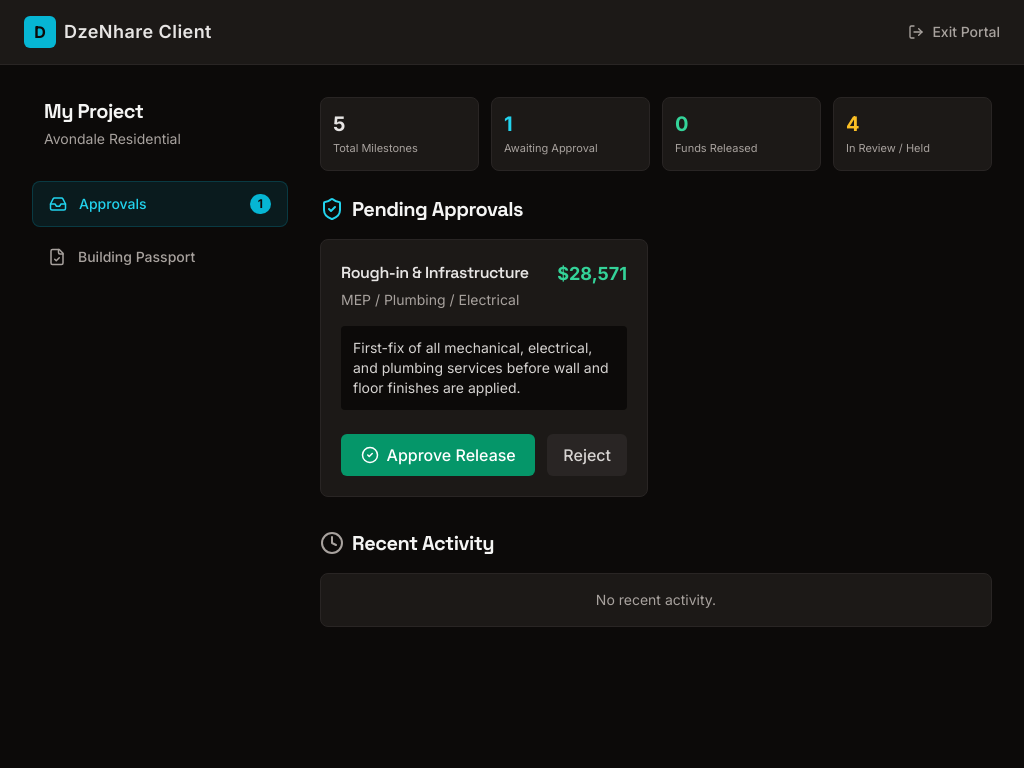
Test: ClientPortal — real milestone data › approves a pending milestone through the real milestone engine
This screenshot has width=1024, height=768.
Expected: the heading "Rough-in & Infrastructure" is shown, [341, 260, 529, 286]
What coordinates should you click on to do the following:
click the button "Approve Release"
I would click on:
 (438, 455)
Its box is [341, 434, 535, 476].
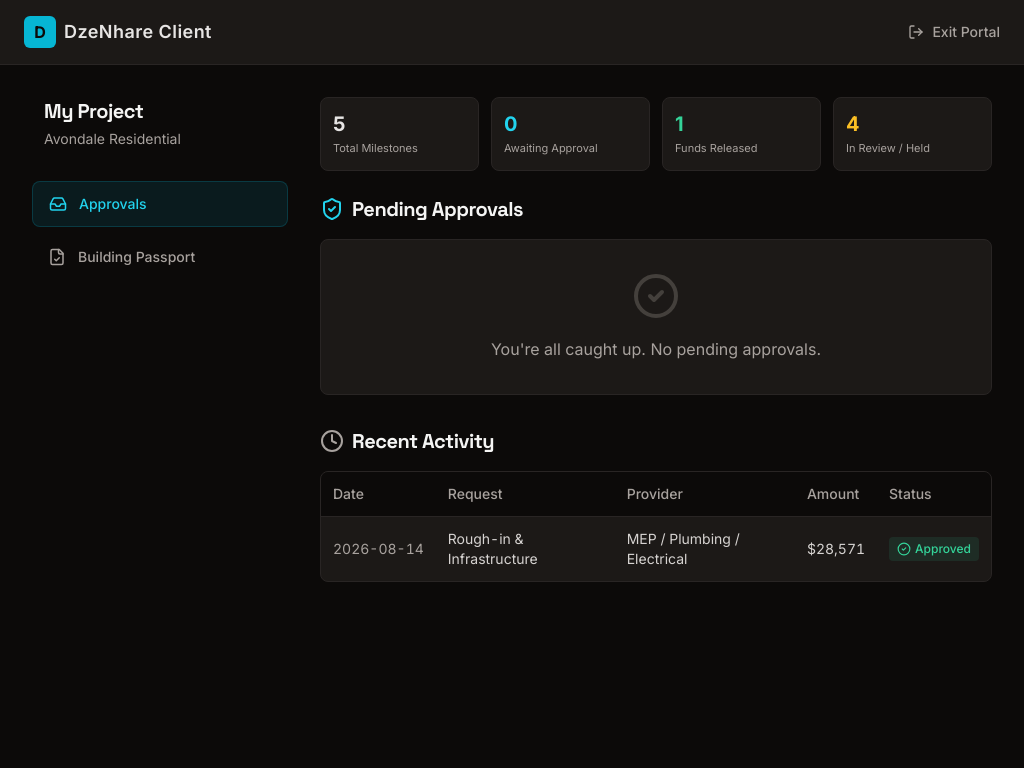
Result: the text "Approved" is shown at [889, 537, 979, 561]
